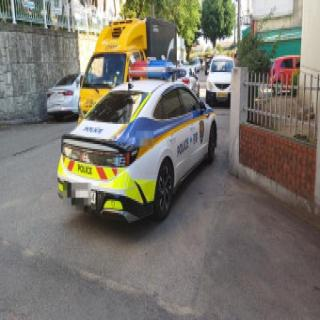Police_car: (55, 58, 219, 231)
